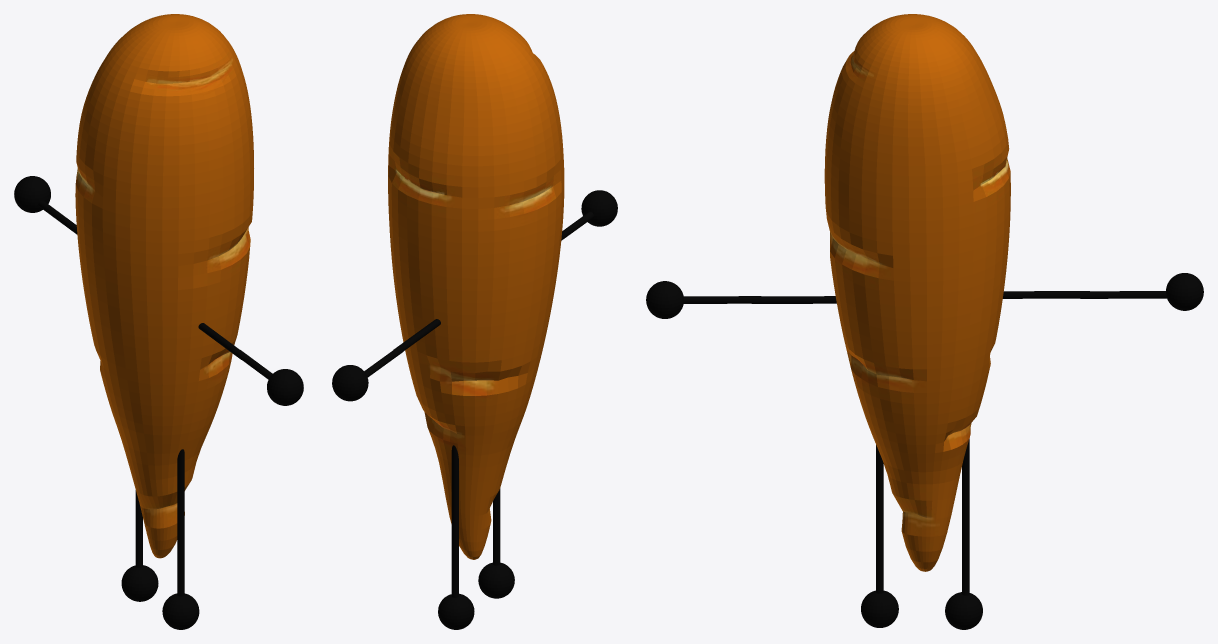
File: Carrrrrot.fbx
3 views of the same model, side by side, from view 1: azimuth 30°, elevation 25°; view 2: azimuth 150°, elevation 25°; view 3: azimuth 270°, elevation 25° (orthographic). The views are drawn at different scales.
Visible parts, largest first — view 1: RÉP, right hand, left foot, right foot, left hand, right leg lower, right leg upper, left leg lower; view 2: RÉP, left hand, right foot, left foot, right hand, left leg lower, left leg upper, right leg lower, left arm upper; view 3: RÉP, left hand, right hand, left foot, right foot.
Boxes of the visible parts, x1=… form: RÉP: x1=75, y1=14, x2=253, y2=558; right hand: x1=267, y1=369, x2=303, y2=405; left foot: x1=121, y1=565, x2=158, y2=601; right foot: x1=162, y1=593, x2=199, y2=629; left hand: x1=14, y1=176, x2=50, y2=212; right leg lower: x1=177, y1=517, x2=184, y2=596; right leg upper: x1=177, y1=449, x2=184, y2=524; left leg lower: x1=135, y1=490, x2=142, y2=567; RÉP: x1=388, y1=14, x2=564, y2=559; left hand: x1=332, y1=365, x2=368, y2=401; right foot: x1=478, y1=562, x2=514, y2=598; left foot: x1=438, y1=593, x2=474, y2=629; right hand: x1=581, y1=190, x2=617, y2=226; left leg lower: x1=451, y1=518, x2=458, y2=597; left leg upper: x1=451, y1=445, x2=458, y2=525; right leg lower: x1=493, y1=488, x2=500, y2=565; left arm upper: x1=393, y1=319, x2=440, y2=352; RÉP: x1=824, y1=14, x2=1010, y2=571; left hand: x1=1166, y1=273, x2=1203, y2=310; right hand: x1=646, y1=281, x2=683, y2=318; left foot: x1=945, y1=592, x2=982, y2=629; right foot: x1=861, y1=590, x2=898, y2=627.
Size of the model in its own units: 47.97 by 177 by 146.
